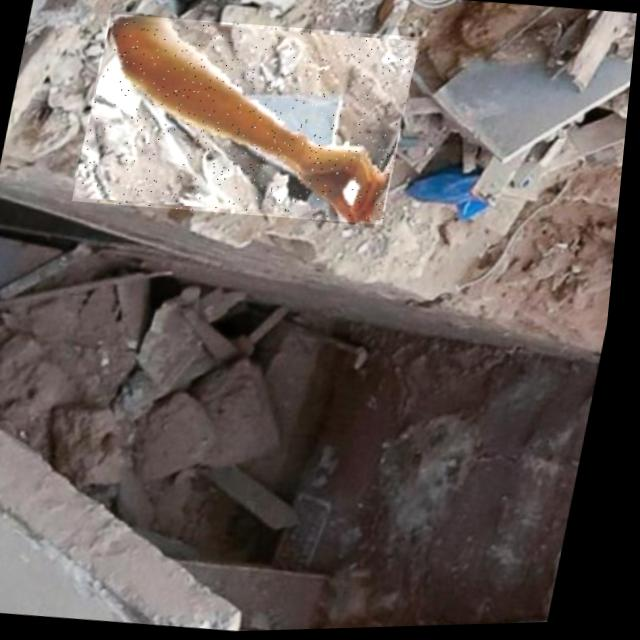Person in Rubble: (72, 7, 422, 234)
